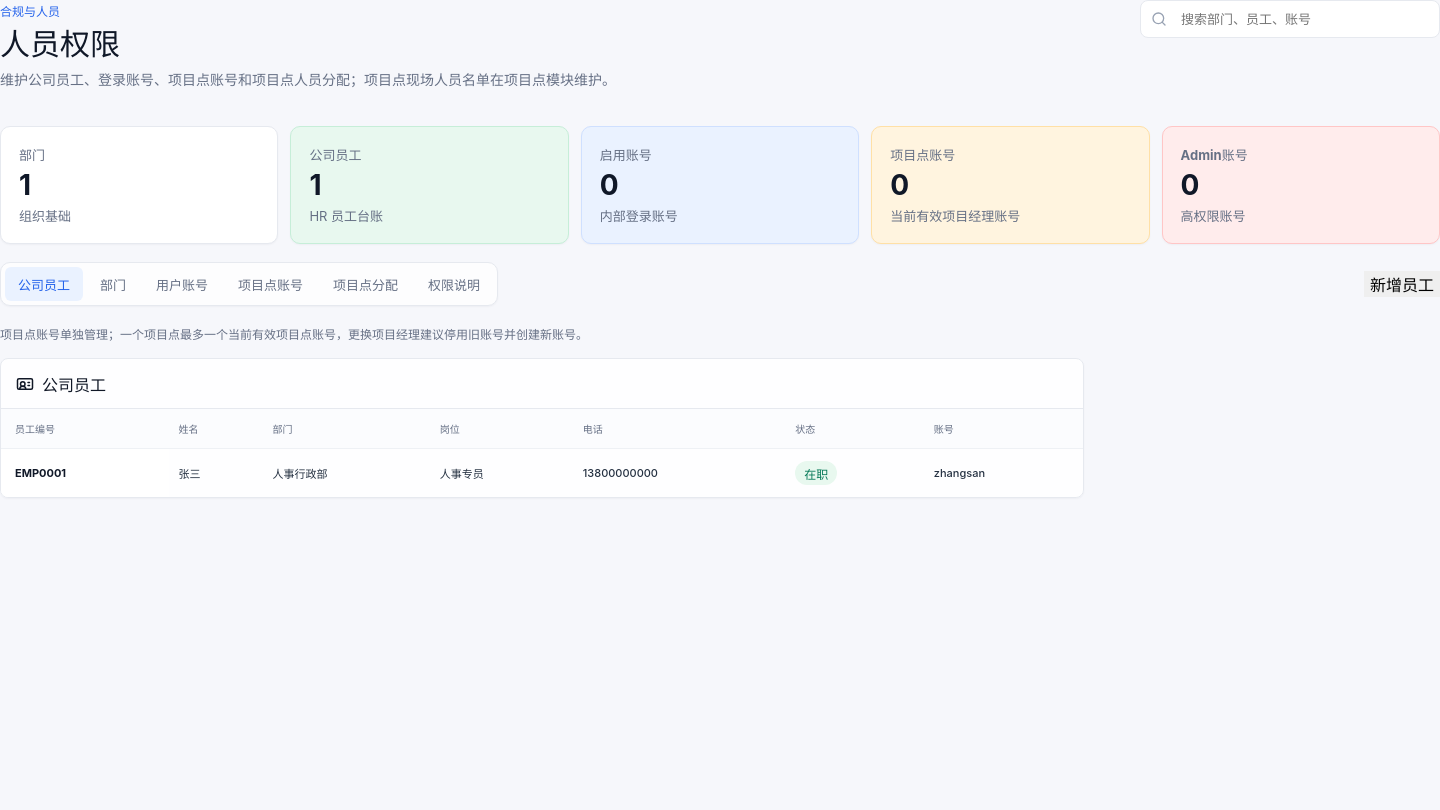
Test case: 人员权限 行内校验 › 部门必填为空时显示行内错误且不调接口
Expected: the text "EMP0001" is shown, [1,449,169,498]
Click the tab "部门". click: click(113, 284)
box: [87,268,139,302]
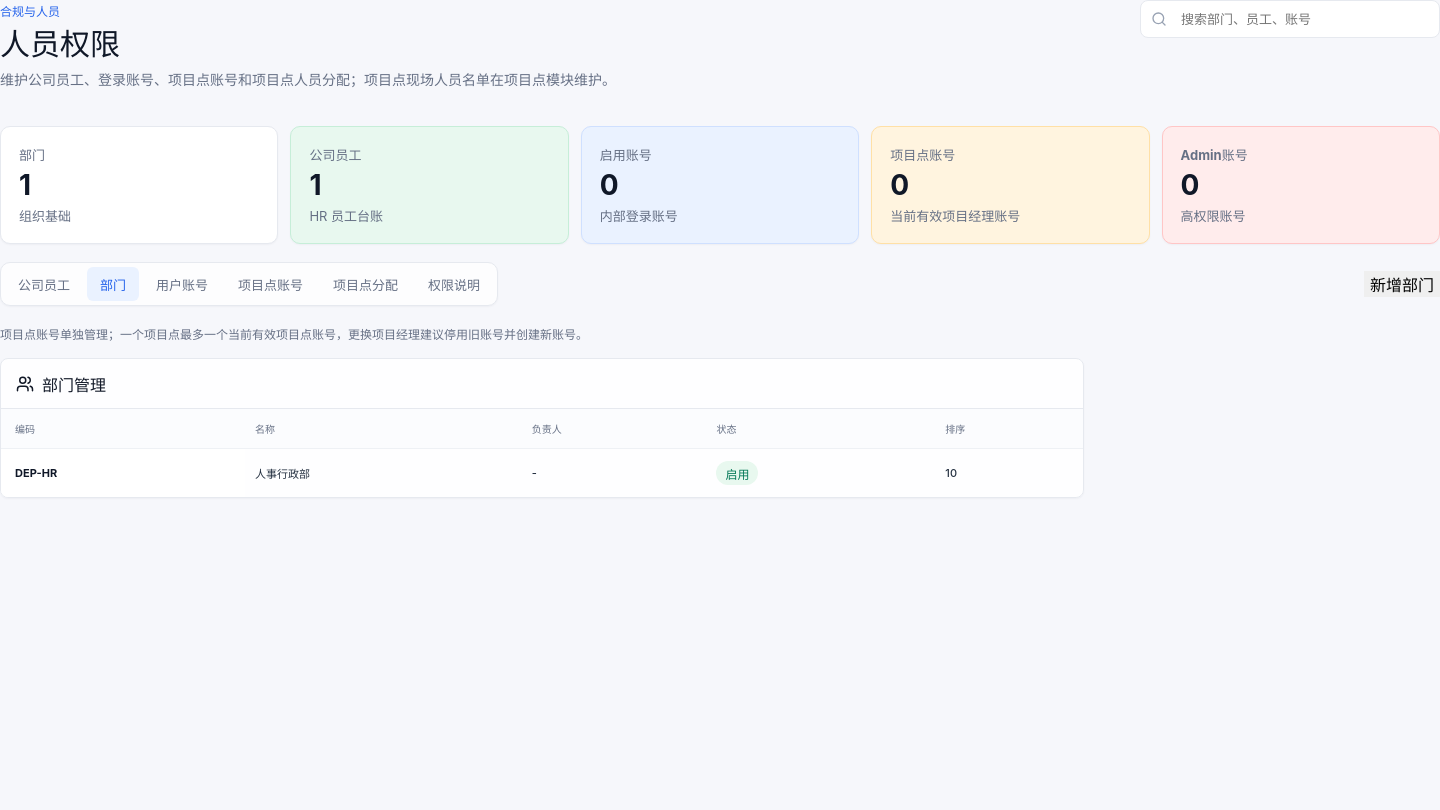
Click the button "新增部门". click: click(1402, 284)
box: [1364,272,1439,298]
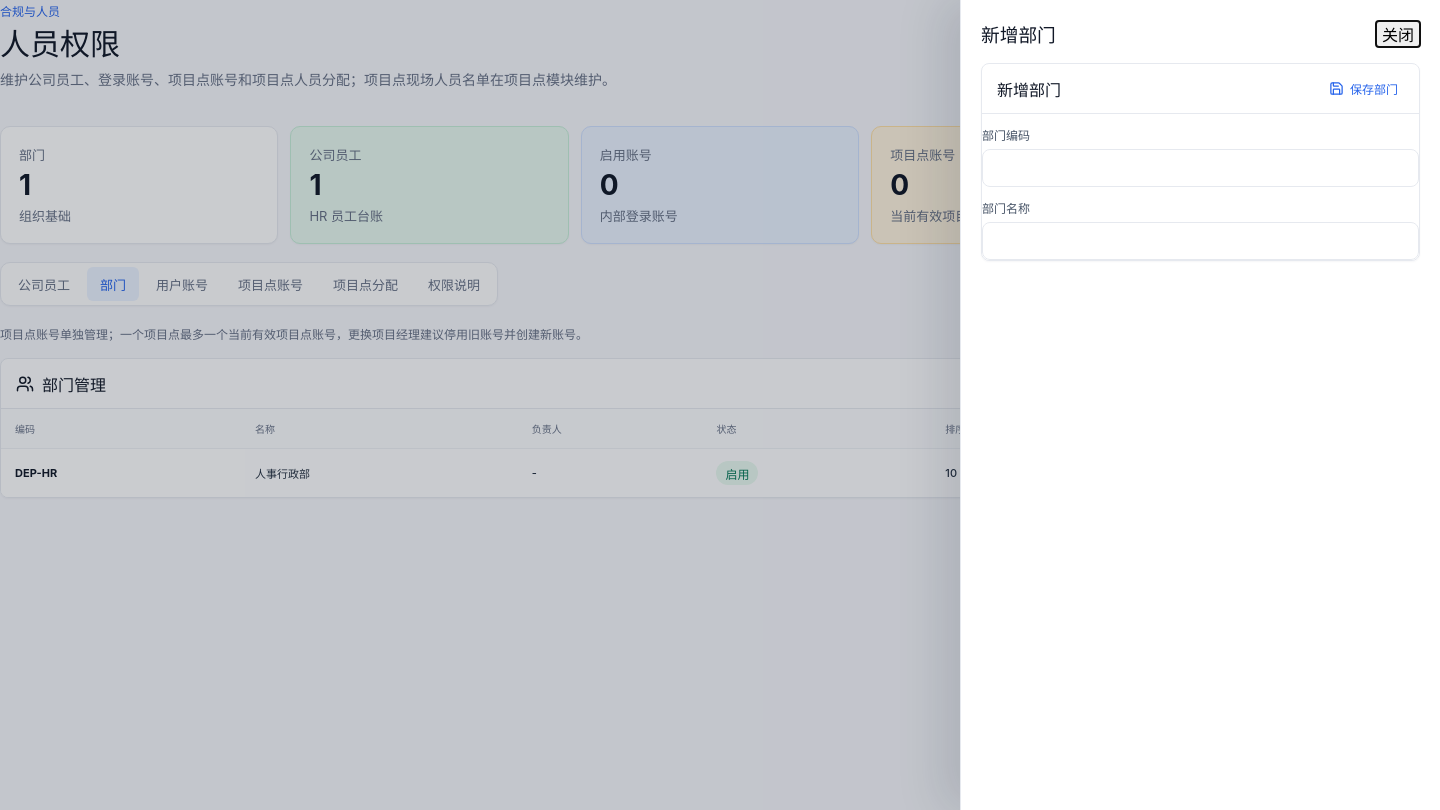
Click the button "保存部门". click: click(1364, 88)
box: [1323,79,1404,98]
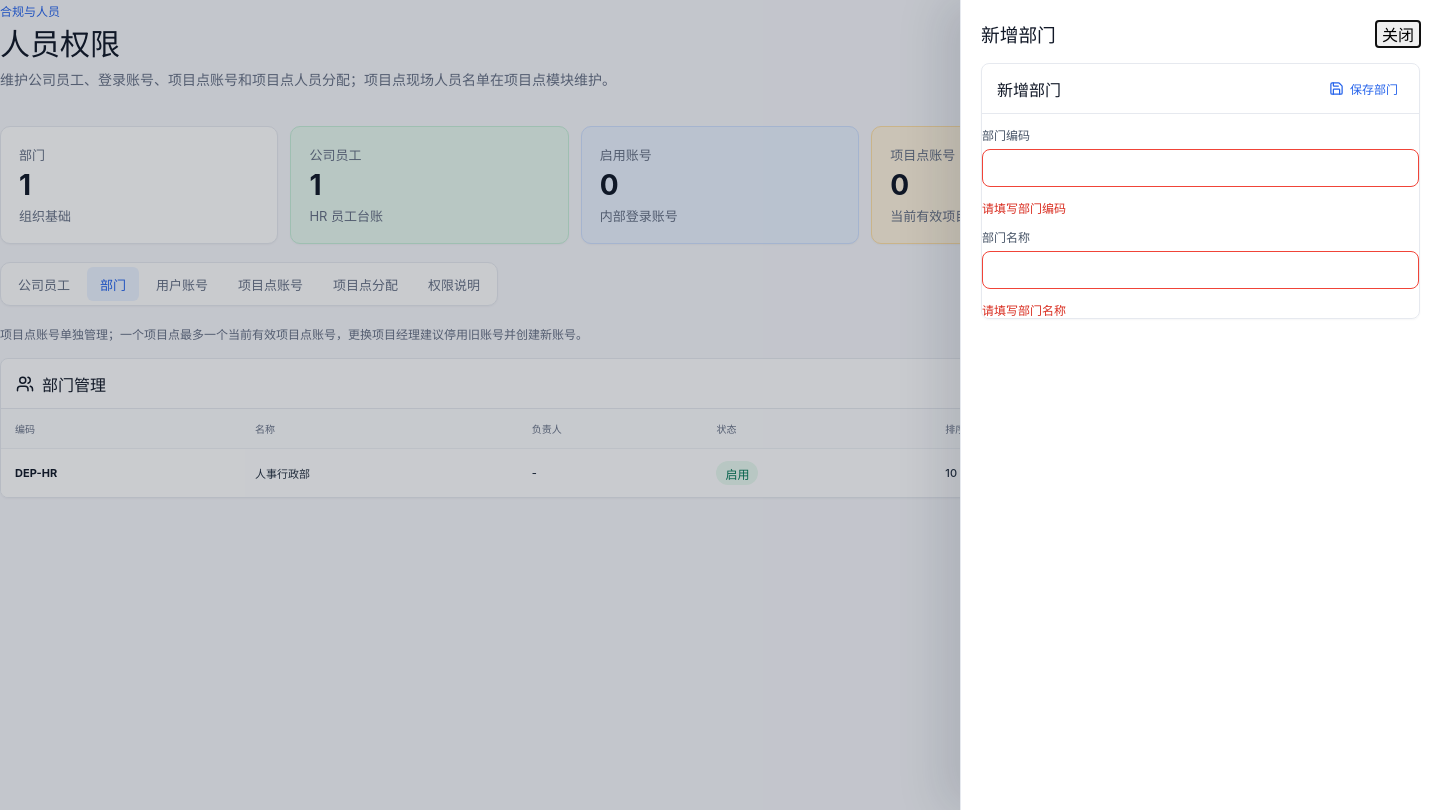
Result: the text "请填写部门编码" is shown at [982,201,1066,216]
Result: the text "请填写部门名称" is shown at [982,303,1066,318]
